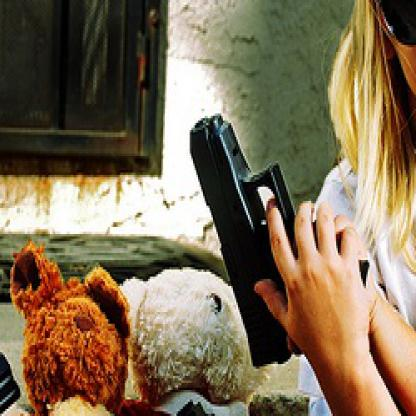gun: (188, 111, 371, 369)
